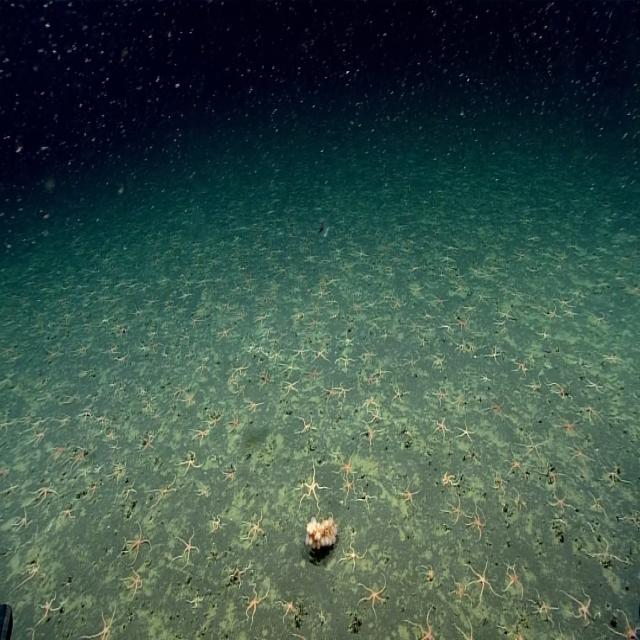brittle-stars: (288, 460, 328, 513), (582, 534, 632, 574), (352, 575, 393, 619), (560, 580, 598, 625), (8, 551, 42, 598), (119, 518, 152, 564), (464, 556, 494, 603), (238, 581, 268, 625), (84, 605, 120, 640), (605, 604, 640, 640), (170, 530, 203, 568), (532, 590, 562, 630), (401, 606, 436, 640), (146, 474, 177, 512), (443, 571, 472, 610), (597, 458, 632, 490), (513, 428, 549, 458), (544, 488, 578, 519), (332, 541, 367, 571), (116, 566, 145, 602), (34, 588, 62, 624), (242, 512, 268, 549), (536, 457, 568, 487), (546, 415, 580, 442), (221, 556, 252, 585), (504, 561, 526, 601), (396, 473, 419, 511), (439, 496, 469, 525), (466, 504, 485, 544), (328, 350, 356, 377), (337, 472, 359, 506), (427, 384, 458, 408), (271, 592, 297, 620), (204, 508, 227, 538), (451, 615, 478, 640), (565, 442, 592, 467), (32, 476, 53, 507), (334, 455, 360, 480), (431, 414, 456, 439), (66, 442, 90, 468), (219, 454, 239, 485), (457, 417, 477, 448), (438, 462, 459, 491), (176, 451, 200, 476), (578, 400, 602, 425), (586, 492, 612, 515), (45, 440, 68, 466), (520, 378, 547, 400), (510, 488, 531, 516), (385, 379, 408, 404), (485, 396, 508, 421), (354, 484, 376, 509), (222, 409, 243, 434), (295, 413, 317, 436), (56, 504, 80, 525), (619, 503, 640, 527), (280, 357, 299, 383), (0, 481, 21, 504), (103, 463, 126, 484), (581, 374, 609, 391), (25, 412, 47, 433), (504, 456, 527, 476), (10, 509, 31, 530), (194, 482, 209, 510), (187, 422, 207, 443), (322, 376, 337, 404), (0, 409, 14, 439), (334, 379, 353, 401), (138, 431, 153, 458), (80, 480, 100, 500), (30, 428, 50, 448), (492, 471, 509, 494), (358, 424, 381, 441), (419, 564, 435, 588), (550, 382, 570, 401), (104, 438, 124, 457), (311, 342, 330, 362), (121, 481, 139, 502), (187, 590, 203, 613), (599, 353, 627, 366), (447, 393, 466, 412), (356, 346, 375, 365), (39, 386, 57, 406), (280, 381, 300, 398), (60, 392, 80, 409), (498, 557, 514, 578), (205, 409, 223, 427), (244, 396, 263, 413), (401, 352, 418, 371), (290, 346, 309, 363), (0, 369, 15, 390), (427, 356, 445, 373), (77, 406, 93, 425), (256, 373, 274, 389), (183, 389, 197, 409), (366, 406, 380, 425), (484, 350, 504, 363), (55, 413, 70, 429), (20, 406, 32, 426), (306, 365, 324, 378), (360, 393, 376, 407), (515, 360, 529, 376), (91, 457, 104, 474), (231, 383, 245, 398), (171, 381, 185, 396), (96, 412, 109, 428), (76, 465, 92, 478), (234, 359, 249, 372), (0, 458, 9, 478), (140, 398, 152, 413), (271, 347, 283, 362), (257, 342, 269, 357), (374, 363, 387, 376), (287, 632, 307, 640), (480, 368, 491, 382), (226, 375, 236, 388), (105, 431, 115, 444), (366, 374, 375, 384)
